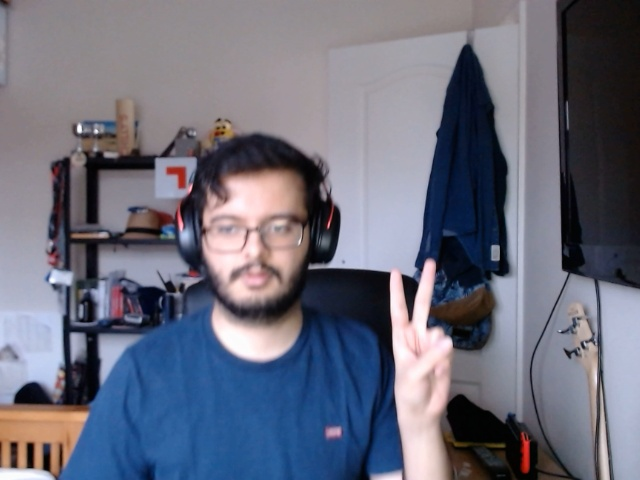Peace: (379, 252, 462, 420)
